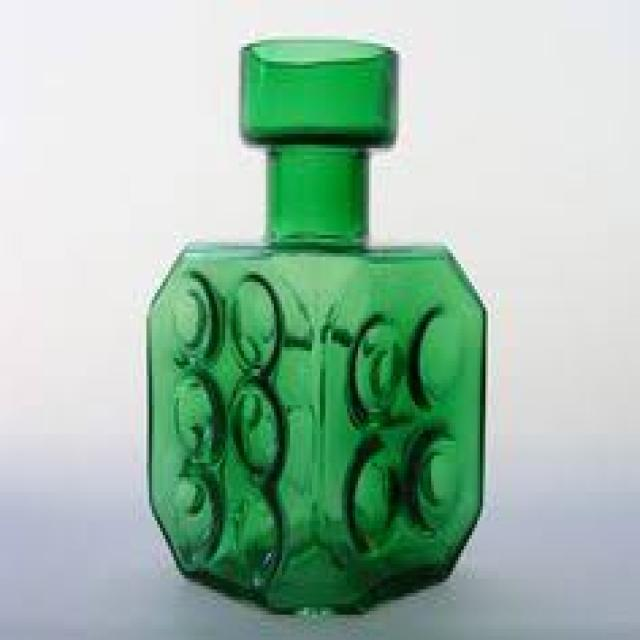glass: (141, 33, 483, 611)
